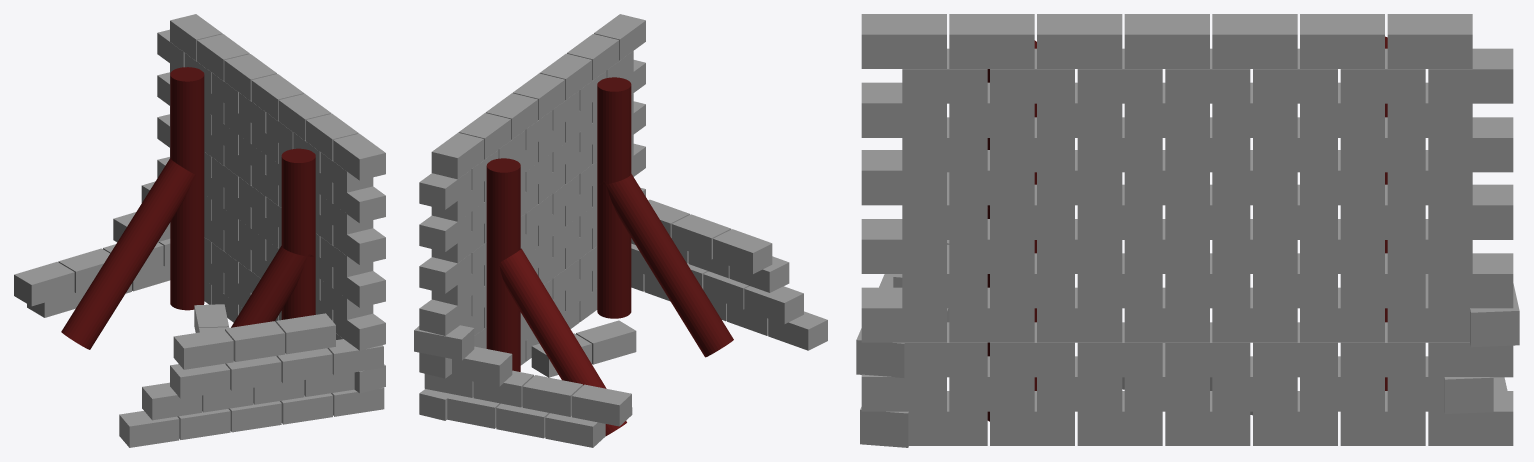
The model's file is barikada.fbx.
The picture shows the model from 3 angles, left to right: view 1: azimuth 30°, elevation 25°; view 2: azimuth 150°, elevation 25°; view 3: azimuth 270°, elevation 25°; orthographic projection. The views are drawn at different scales.
Parts seen in each view (by area): view 1: Cube.008, Cylinder, Cylinder.001, Cube.015, Cube.013, Cube.012, Cylinder.003, Cube.014, Cube.009, Cube.018, Cube.010, Cube.004 (+12 smaller); view 2: Cube.008, Cylinder.003, Cylinder.002, Cylinder, Cube.018, Cylinder.001, Cube.009, Cube.017, Cube.012, Cube.005, Cube.011, Cube.014 (+13 smaller); view 3: Cube.008, Cube.004, Cube.010, Cube.007, Cube.005, Cube.009, Cube.003, Cube.006, Cube.011, Cube, Cube.002, Cube.001 (+4 smaller).
Boxes of the visible parts, x1,y1,x2,y2 form: Cube.008: (170,14,385,180); Cylinder: (170,67,204,310); Cylinder.001: (61,158,195,349); Cube.015: (119,387,384,447); Cube.013: (170,339,383,398); Cube.012: (173,313,335,369); Cylinder.003: (281,148,315,319); Cube.014: (142,372,354,420); Cube.009: (157,29,373,192); Cube.018: (14,238,170,306); Cube.010: (170,63,385,223); Cube.004: (170,105,385,264); Cube.008: (431,14,645,179); Cylinder.003: (597,77,631,318); Cylinder.002: (599,174,733,357); Cylinder: (486,158,520,371); Cube.018: (424,370,632,426); Cylinder.001: (499,248,626,435); Cube.009: (419,51,633,209); Cube.017: (447,394,605,447); Cube.012: (648,199,772,273); Cube.005: (419,135,633,293); Cube.011: (419,93,633,251); Cube.014: (631,243,803,324); Cube.008: (861,14,1472,68); Cube.004: (861,150,1472,205); Cube.010: (861,82,1472,137); Cube.007: (902,253,1513,308); Cube.005: (902,184,1513,239); Cube.009: (902,48,1513,103); Cube.003: (861,287,1469,342); Cube.006: (861,219,1472,273); Cube.011: (902,117,1513,172); Cube: (909,391,1513,445); Cube.002: (904,322,1513,377); Cube.001: (861,356,1444,411).
Bounding box in the file's own units: 594 × 658 × 888.
